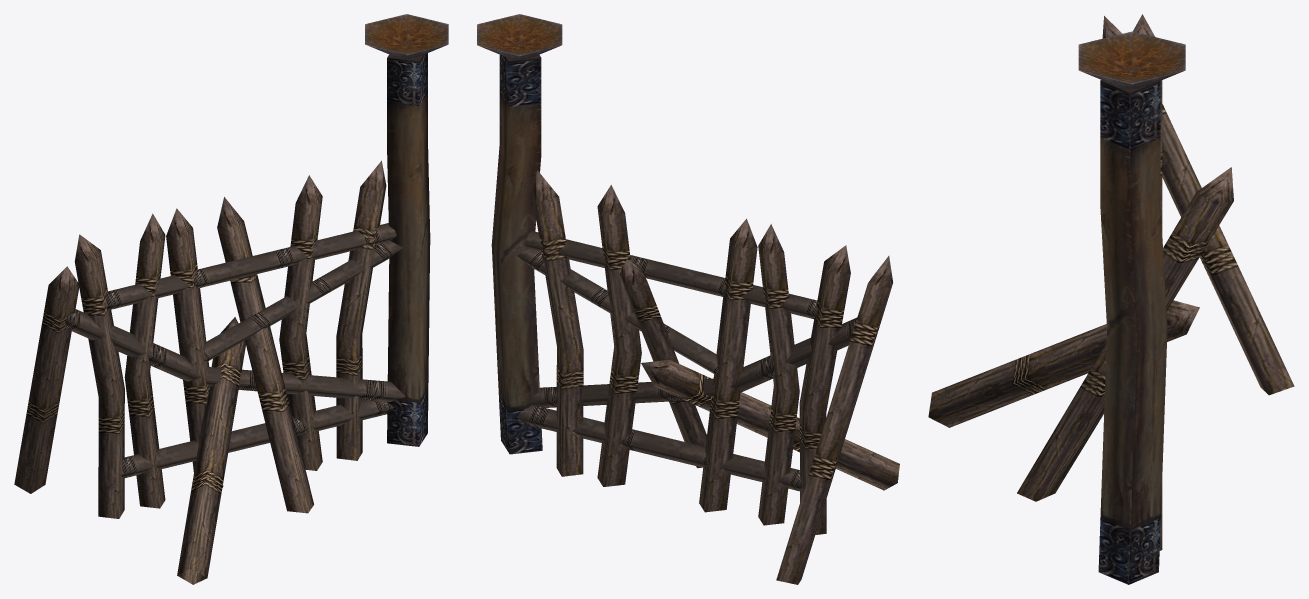
File: poweilan_yc_40.FBX
3 renders of one model, left to right at view 1: azimuth 30°, elevation 25°; view 2: azimuth 150°, elevation 25°; view 3: azimuth 270°, elevation 25°, orthographic. The views are drawn at different scales.
Visible parts, largest first — view 1: poweilan_yc_40; view 2: poweilan_yc_40; view 3: poweilan_yc_40.
Boxes of the visible parts, x1,y1,x2,y2 form: poweilan_yc_40: (14, 14, 448, 584); poweilan_yc_40: (477, 14, 899, 584); poweilan_yc_40: (928, 14, 1294, 584).
Size of what is drawn, in the model's own units: 486 by 495 by 300.
